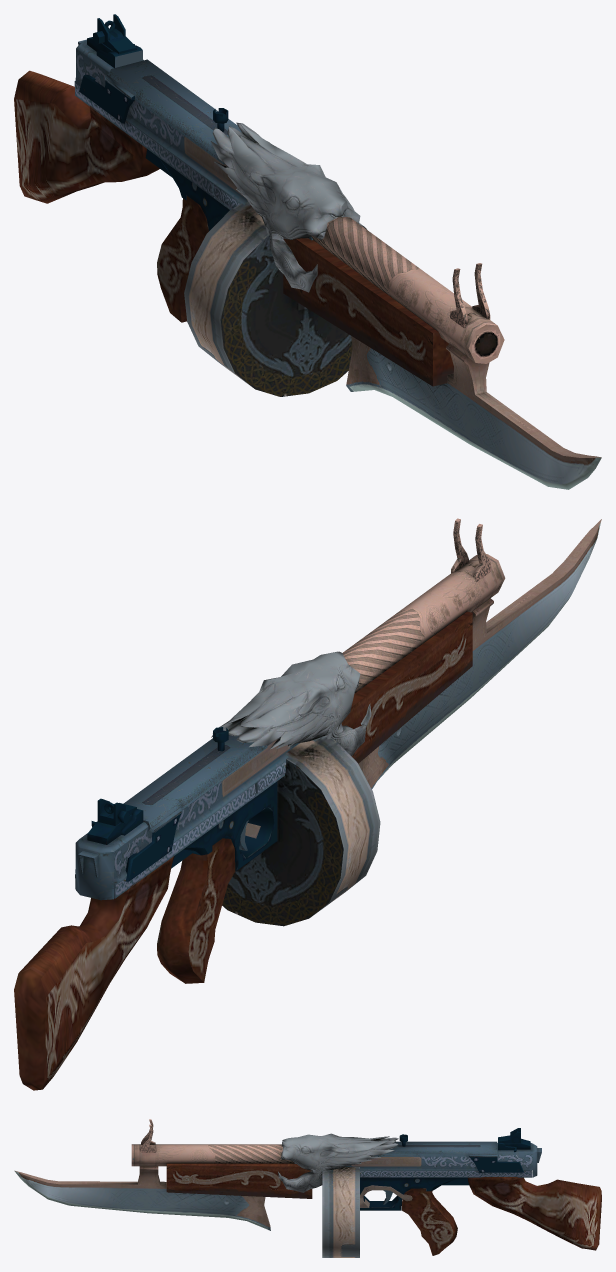
The model's file is SMG_Tompson_0_Body_Main_(000431).glb.
The picture shows the model from 3 angles, top to bottom: view 1: azimuth 30°, elevation 25°; view 2: azimuth 150°, elevation 25°; view 3: azimuth 270°, elevation 25°; orthographic projection. The views are drawn at different scales.
Parts seen in each view (by area): view 1: Tompson_0; view 2: Tompson_0; view 3: Tompson_0.
Part boxes in pixels (left/top/right/bottom): Tompson_0: left=14, top=14, right=601, bottom=489; Tompson_0: left=14, top=518, right=601, bottom=1090; Tompson_0: left=14, top=1119, right=601, bottom=1257.
Size of the model in its own units: 0.1826 by 0.2621 by 1.07.
Materials: 2 (2 with a texture image).
